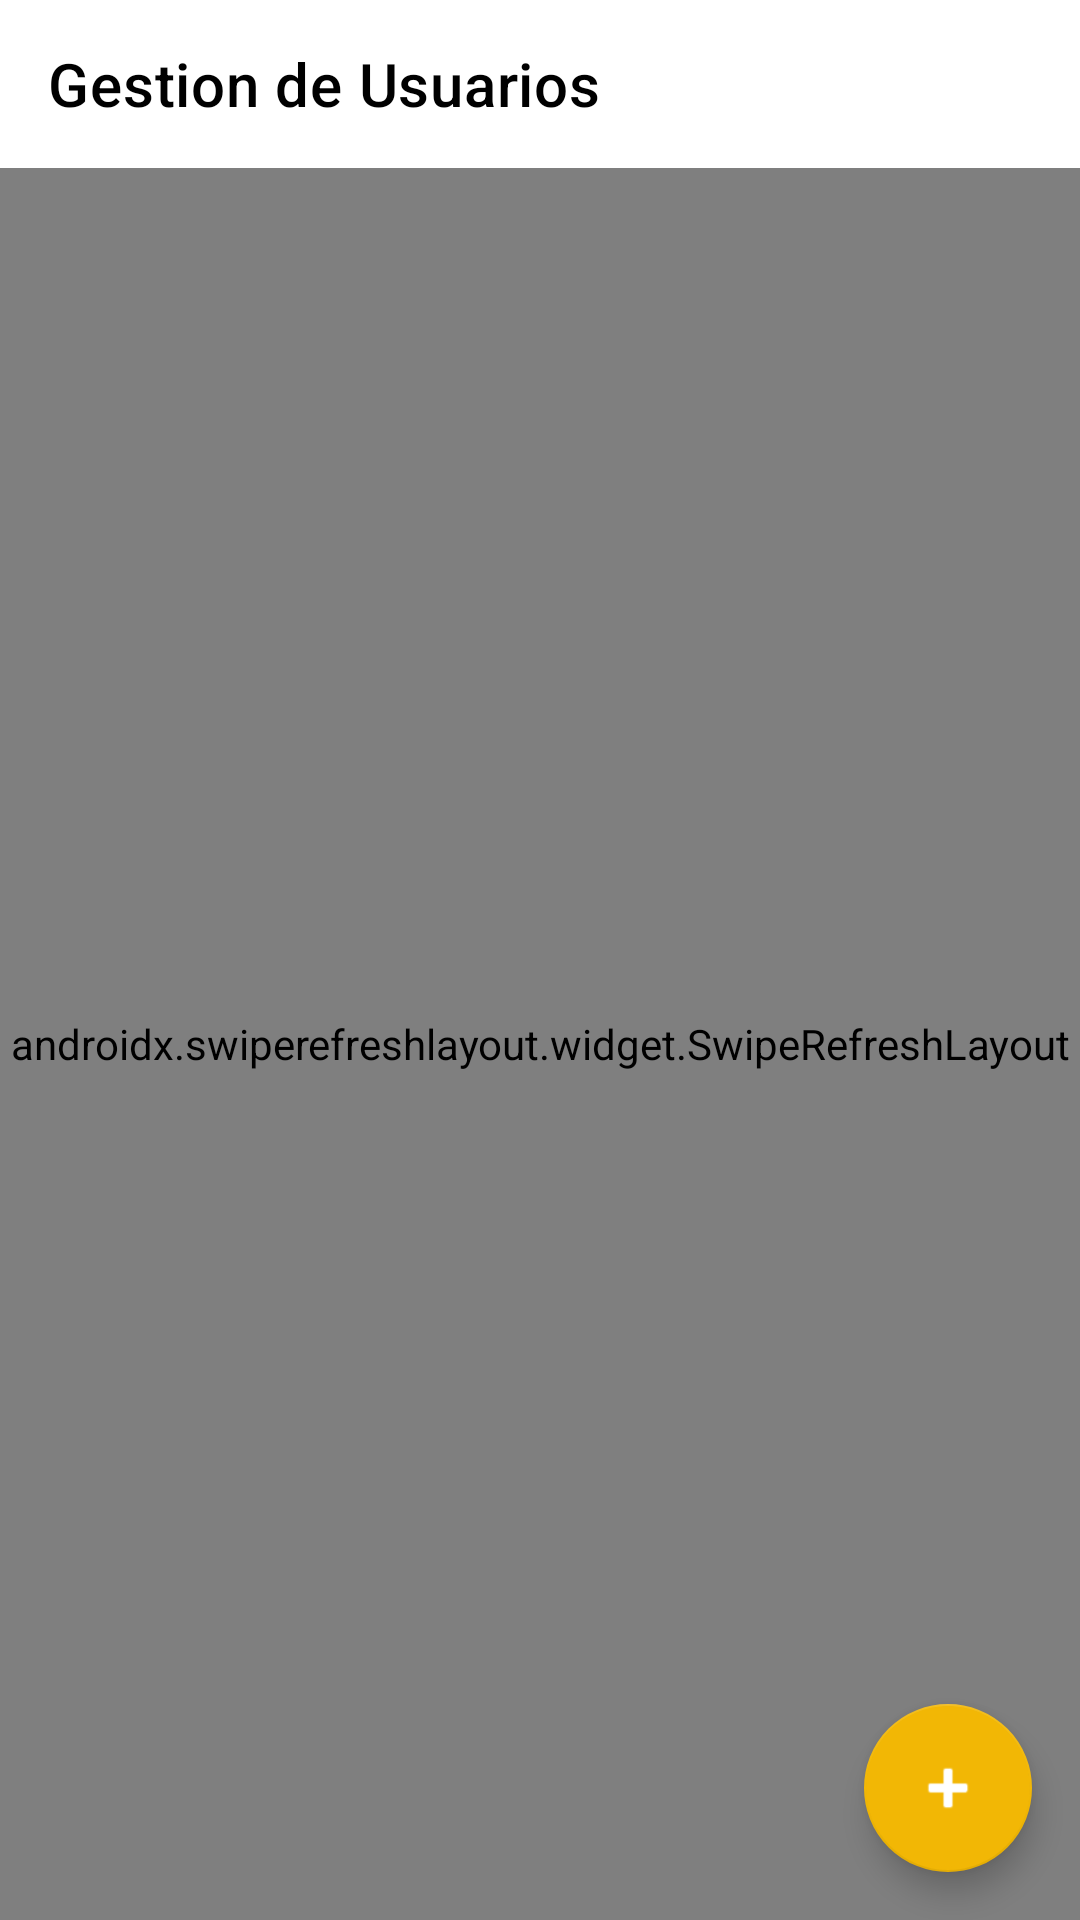

Named icons in this screenshot (1080 × 1920) and their centers, point (x, y):
Agregar usuario: point (948, 1788)
